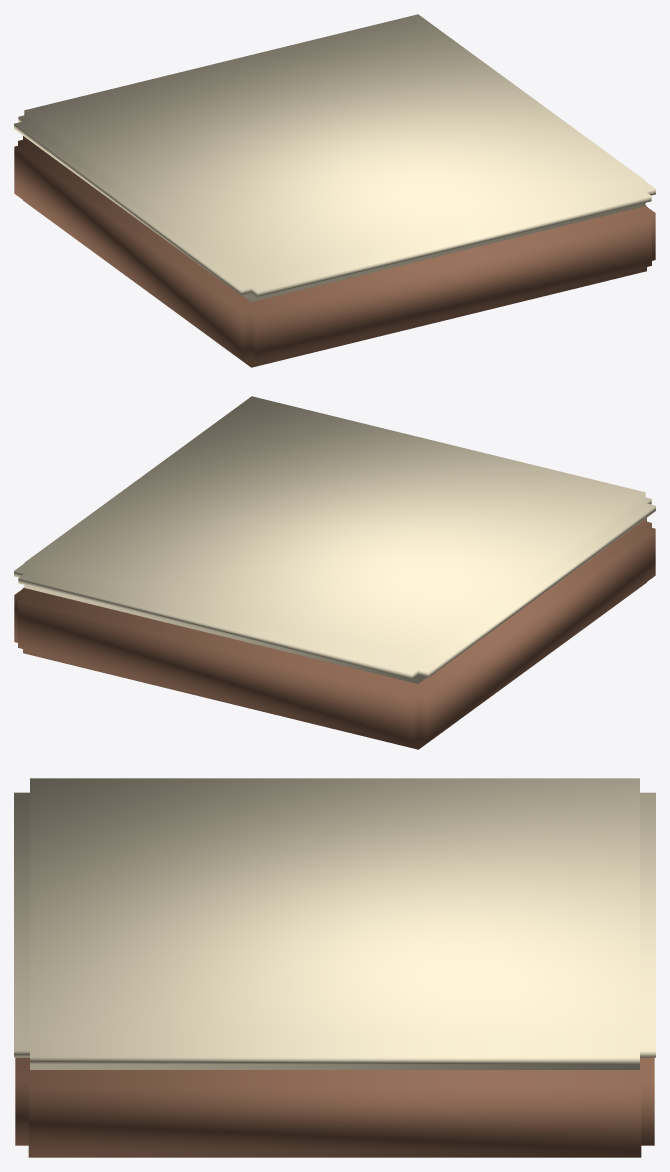
The model's file is candy_tile_cream.glb.
3 renders of one model, top to bottom at view 1: azimuth 30°, elevation 25°; view 2: azimuth 150°, elevation 25°; view 3: azimuth 270°, elevation 25°, orthographic. The views are drawn at different scales.
Parts seen in each view (by area): view 1: frost, body; view 2: frost, body; view 3: frost, body.
Boxes of the visible parts, box(x1,y1,x2,y2) form: frost: box(14, 14, 655, 301); body: box(14, 136, 655, 367); frost: box(14, 396, 655, 683); body: box(14, 518, 655, 749); frost: box(14, 778, 655, 1069); body: box(15, 1057, 654, 1157).
Size of the model in its own units: 4.8 by 1 by 4.8.
